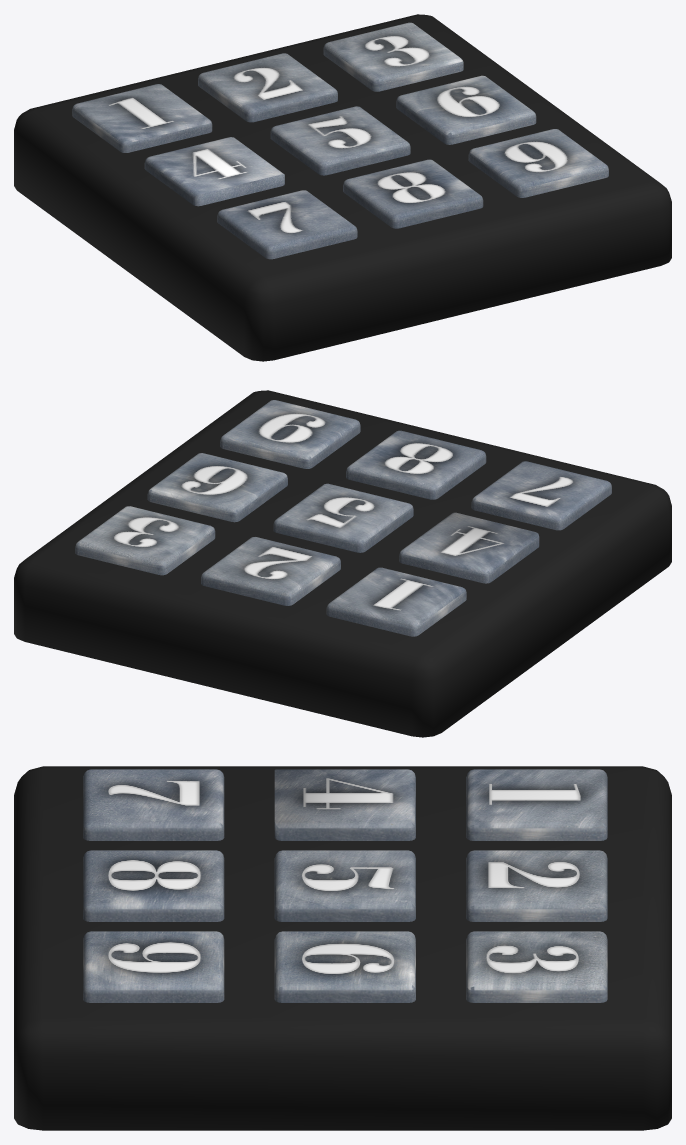
File: nummerfield.glb
The picture shows the model from 3 angles, top to bottom: view 1: azimuth 30°, elevation 25°; view 2: azimuth 150°, elevation 25°; view 3: azimuth 270°, elevation 25°; orthographic projection. The views are drawn at different scales.
Visible parts, largest first — view 1: nummerfield, nummerfield_top.008, nummerfield_top.004, nummerfield_top.003, nummerfield_top.005, nummerfield_top.000, nummerfield_top.006, nummerfield_top.001, nummerfield_top.009, nummerfield_top.002; view 2: nummerfield, nummerfield_top.000, nummerfield_top.008, nummerfield_top.004, nummerfield_top.001, nummerfield_top.003, nummerfield_top.005, nummerfield_top.006, nummerfield_top.009, nummerfield_top.002; view 3: nummerfield, nummerfield_top.000, nummerfield_top.001, nummerfield_top.003, nummerfield_top.002, nummerfield_top.009, nummerfield_top.004, nummerfield_top.005, nummerfield_top.006, nummerfield_top.008.
Part boxes in pixels (box(x1,y1,x2,y2)): nummerfield: box(14, 14, 671, 361); nummerfield_top.008: box(343, 159, 483, 228); nummerfield_top.004: box(270, 106, 410, 175); nummerfield_top.003: box(323, 22, 463, 91); nummerfield_top.005: box(217, 190, 357, 259); nummerfield_top.000: box(144, 137, 284, 206); nummerfield_top.006: box(396, 75, 536, 144); nummerfield_top.001: box(72, 84, 212, 152); nummerfield_top.009: box(468, 129, 608, 197); nummerfield_top.002: box(198, 53, 337, 122); nummerfield: box(14, 390, 671, 737); nummerfield_top.000: box(399, 512, 539, 583); nummerfield_top.008: box(346, 430, 486, 499); nummerfield_top.004: box(273, 483, 413, 552); nummerfield_top.001: box(326, 567, 466, 636); nummerfield_top.003: box(75, 506, 215, 575); nummerfield_top.005: box(471, 461, 611, 530); nummerfield_top.006: box(147, 453, 287, 522); nummerfield_top.009: box(220, 400, 360, 468); nummerfield_top.002: box(201, 537, 340, 605); nummerfield: box(14, 766, 671, 1130); nummerfield_top.000: box(274, 769, 415, 840); nummerfield_top.001: box(466, 769, 607, 840); nummerfield_top.003: box(466, 931, 607, 1002); nummerfield_top.002: box(466, 850, 607, 921); nummerfield_top.009: box(83, 931, 224, 1002); nummerfield_top.004: box(274, 850, 415, 921); nummerfield_top.005: box(83, 769, 224, 840); nummerfield_top.006: box(274, 931, 415, 1002); nummerfield_top.008: box(83, 850, 224, 921).
Bounding box in the file's own units: 0.5069 × 0.1 × 0.515.
2 materials, 1 textured.
